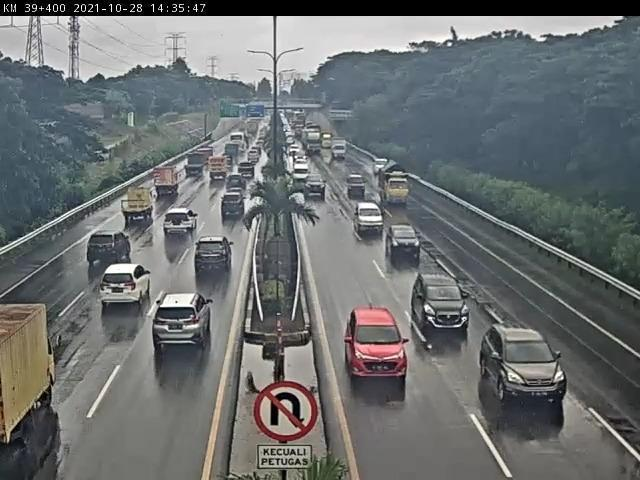car: (495, 323, 568, 416), (404, 274, 475, 333), (349, 313, 413, 378), (142, 295, 206, 352), (107, 263, 148, 312), (90, 227, 126, 264), (396, 226, 426, 264), (201, 238, 230, 277), (356, 206, 386, 242), (129, 182, 154, 225), (167, 212, 201, 243), (221, 190, 246, 222), (350, 175, 373, 204), (227, 172, 245, 191), (295, 164, 309, 183)
truck: (2, 301, 77, 478), (156, 168, 182, 203), (385, 166, 406, 205), (307, 133, 323, 158), (191, 153, 208, 175), (304, 182, 326, 197), (214, 157, 225, 183), (334, 142, 346, 161)
